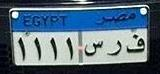1: (64, 35, 75, 62), (16, 36, 27, 63), (32, 36, 43, 61), (49, 36, 59, 63)
faa: (126, 34, 146, 56)
raa: (106, 39, 124, 60)
seen: (83, 38, 103, 60)
